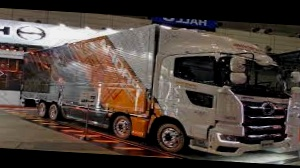truck: (16, 15, 295, 161)
